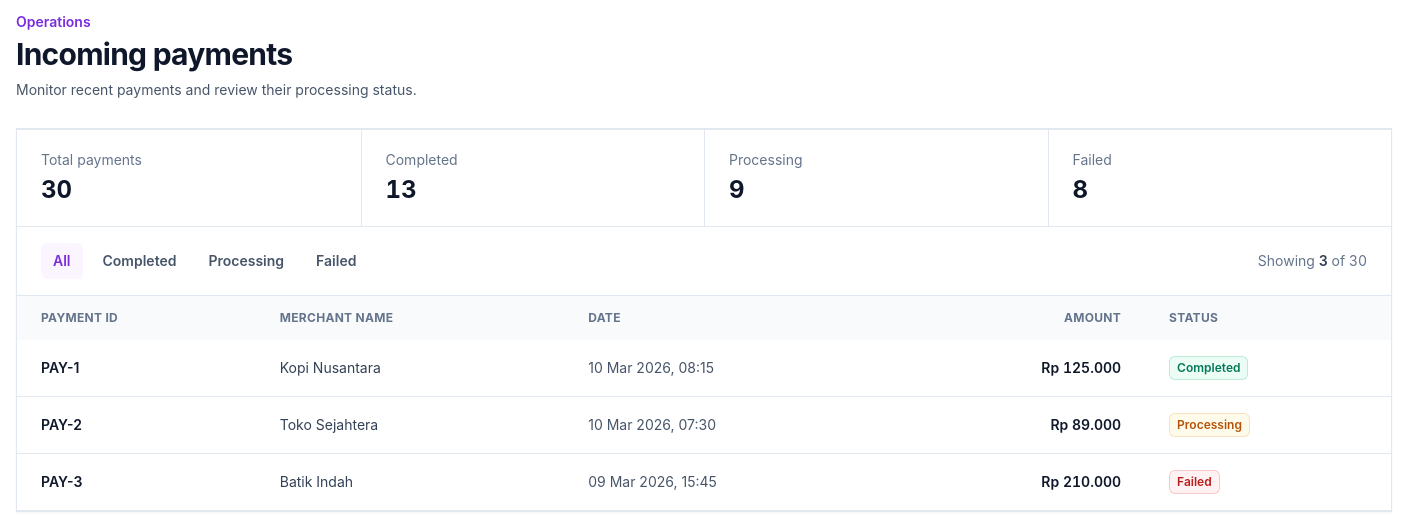
Test: DashboardPage › renders the backend summary and requests filtered payments
Expected: the text "PAY-1" is shown, x1=17 y1=340 x2=256 y2=396
Expected: the text "PAY-2" is shown, x1=17 y1=396 x2=256 y2=454
Click the button "Failed": (336, 261) x1=304 y1=243 x2=368 y2=279
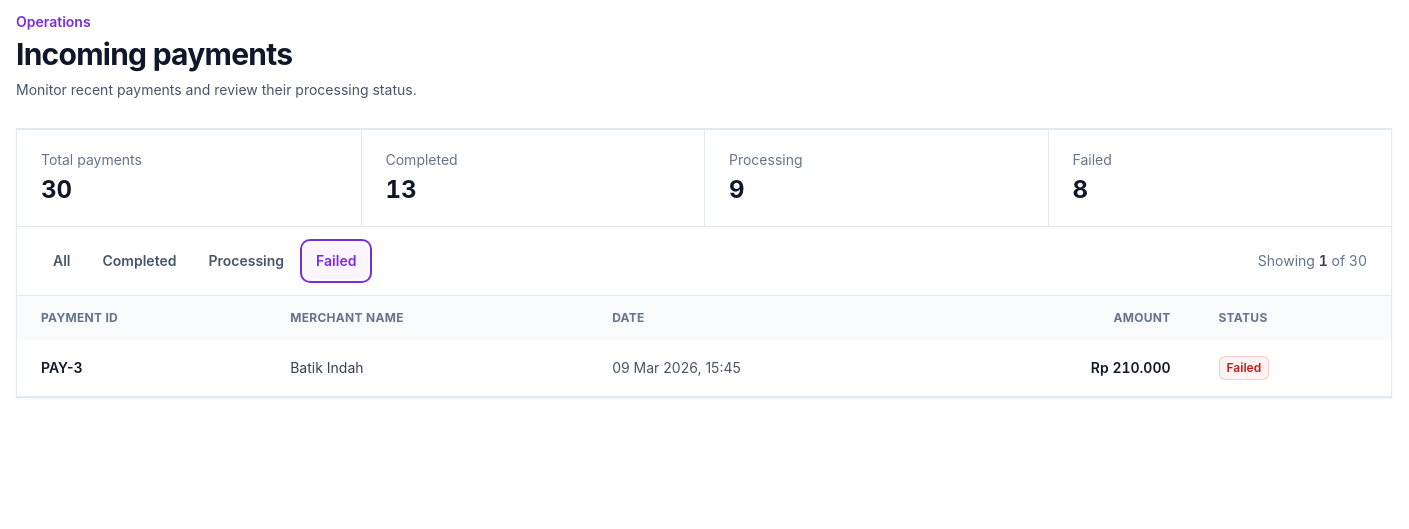
Expected: the text "PAY-3" is shown, x1=17 y1=340 x2=266 y2=396
Expected: the text "PAY-1" is gone
